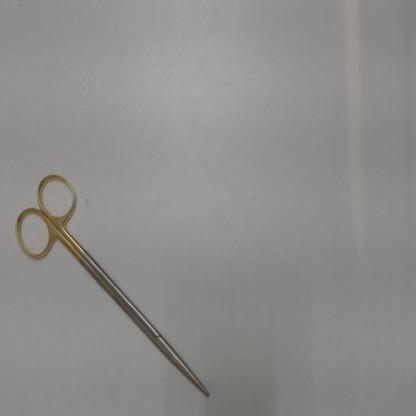7 Metzenbaum Scissors: (15, 170, 210, 398)
